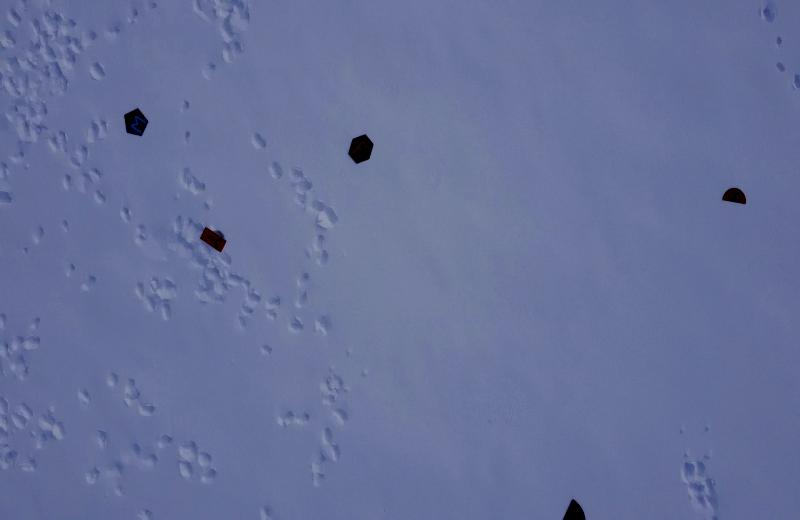Hexagon: (343, 132, 380, 169)
Pentagon: (122, 104, 152, 138)
Quarter Circle: (561, 491, 590, 520)
Rectangle: (197, 225, 233, 257)
Semi Circle: (722, 184, 746, 207)
